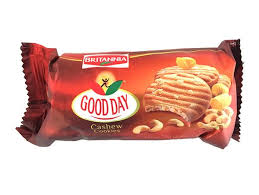gooday-small: (21, 41, 238, 140)
